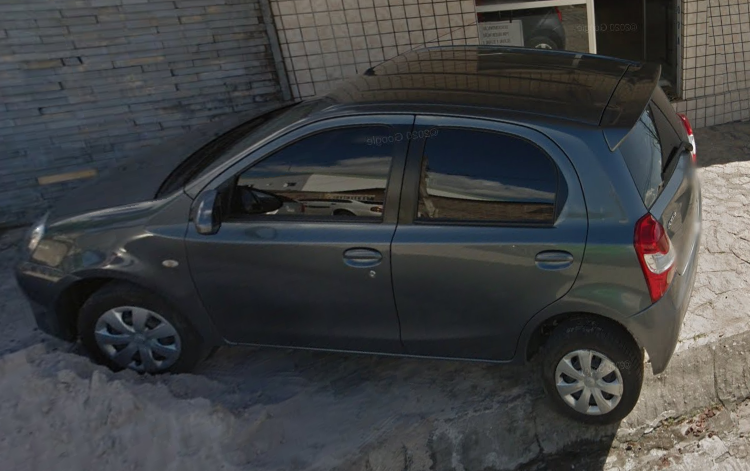car: (13, 17, 707, 426)
